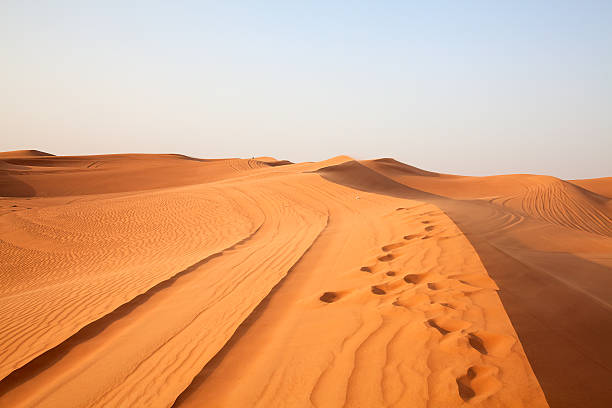human_foot_print: (332, 219, 502, 403), (388, 213, 519, 405), (395, 274, 515, 402), (427, 308, 515, 402), (426, 314, 514, 402), (428, 279, 515, 356), (361, 241, 416, 294), (360, 241, 412, 295), (359, 243, 405, 295), (456, 364, 501, 401), (360, 241, 407, 273), (468, 330, 516, 356), (427, 275, 496, 292), (429, 290, 471, 311), (412, 212, 445, 238), (427, 316, 471, 334), (448, 273, 497, 289), (375, 271, 406, 293), (378, 240, 408, 261), (394, 292, 430, 309), (317, 288, 353, 303), (467, 333, 487, 354), (359, 259, 388, 273), (319, 291, 340, 303), (403, 273, 424, 284), (381, 242, 406, 251), (377, 253, 394, 261), (371, 285, 386, 294), (403, 234, 419, 240), (360, 266, 372, 272), (424, 225, 434, 231), (385, 270, 396, 275), (421, 235, 432, 239), (421, 220, 430, 223)
